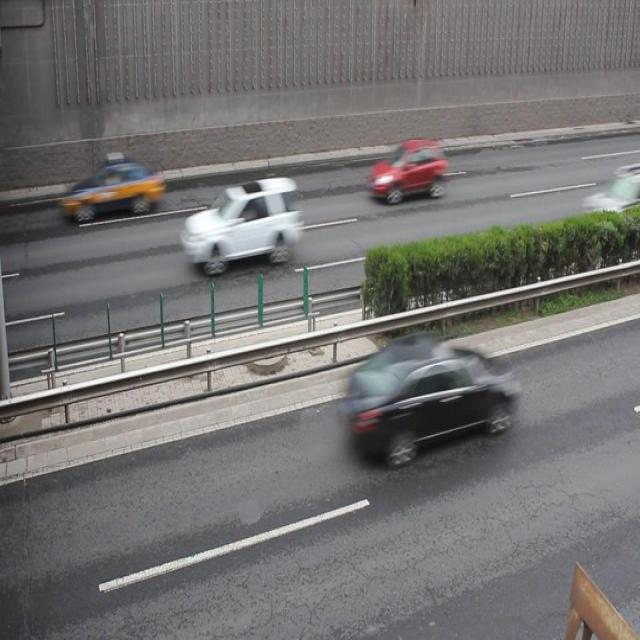car: (346, 333, 514, 463), (182, 178, 300, 274), (61, 158, 164, 226), (369, 139, 447, 205)
